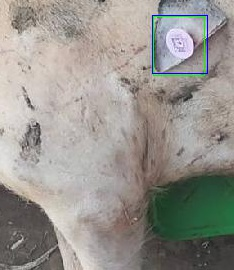text: (153, 16, 204, 75)
